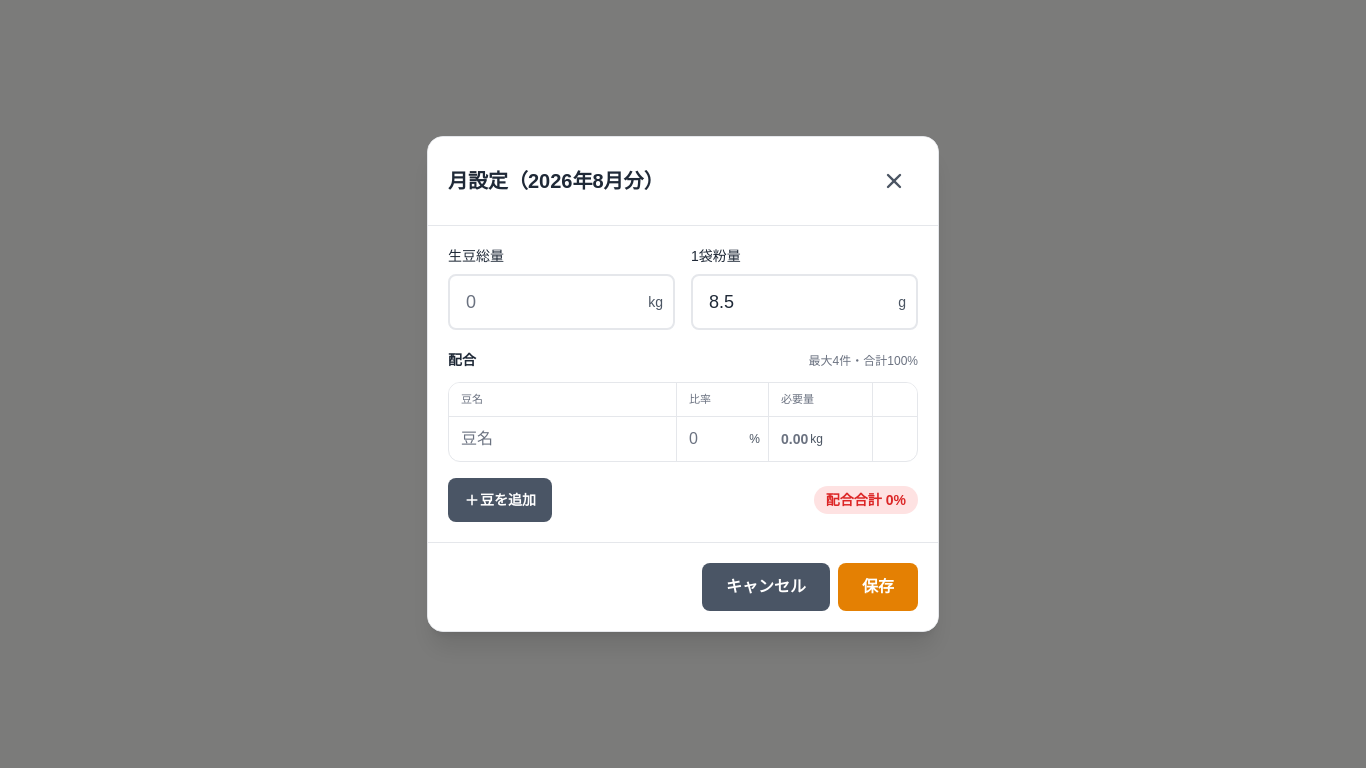
Test case: MonthSettingsModal › 配合合計が100でないとき保存できずエラーを表示する
In the number field labelled "生豆総量": (562, 302) x1=448 y1=274 x2=675 y2=330, type "20"
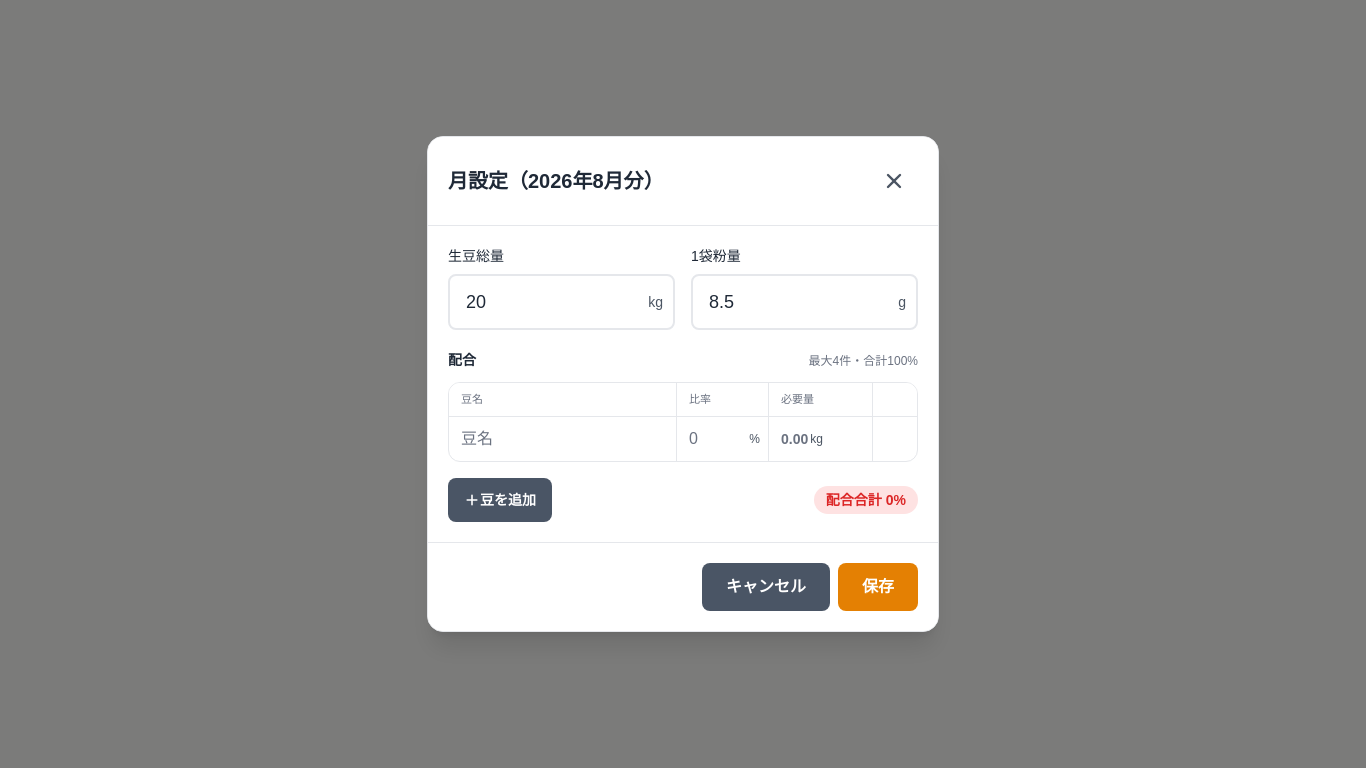
In the field named "豆 1": (563, 439) x1=449 y1=417 x2=677 y2=461, type "ブラジル"
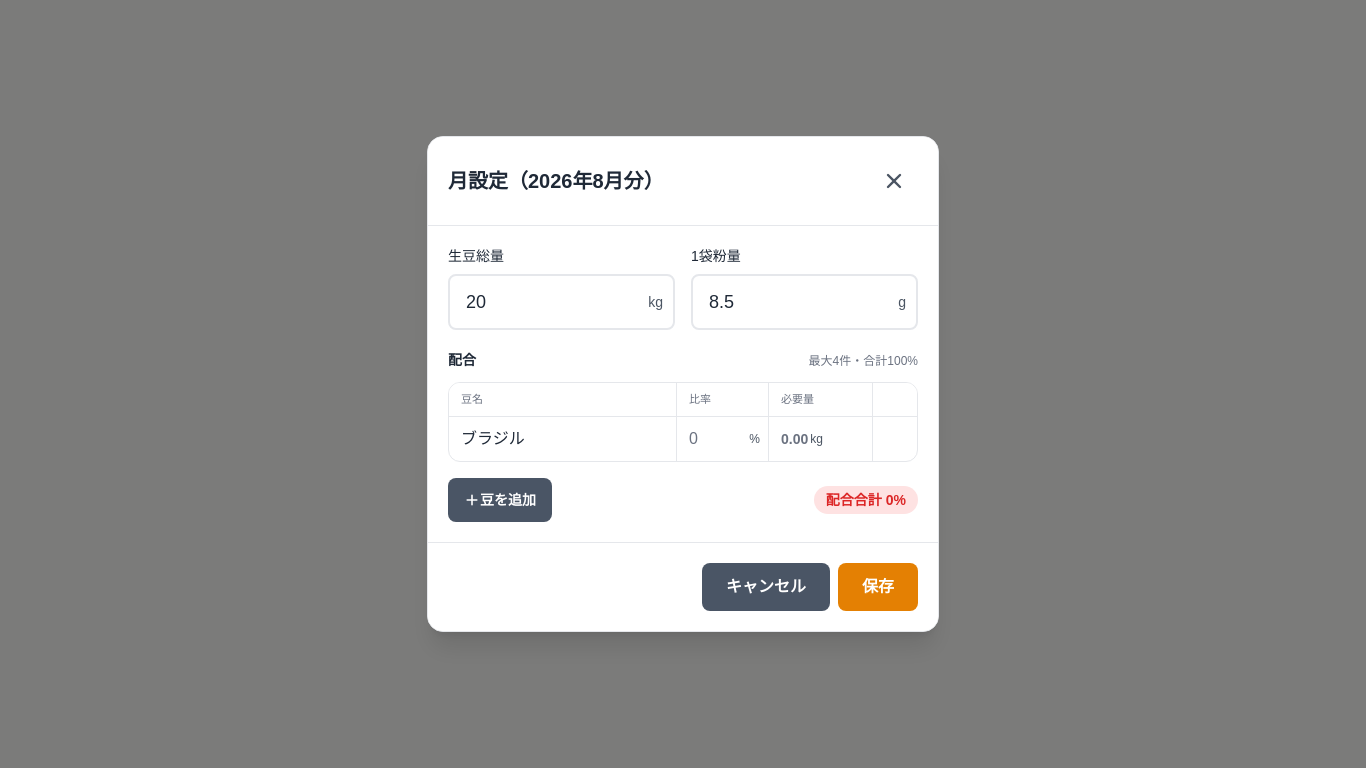
In the number field named "比率": (722, 439) x1=677 y1=417 x2=768 y2=461, type "80"
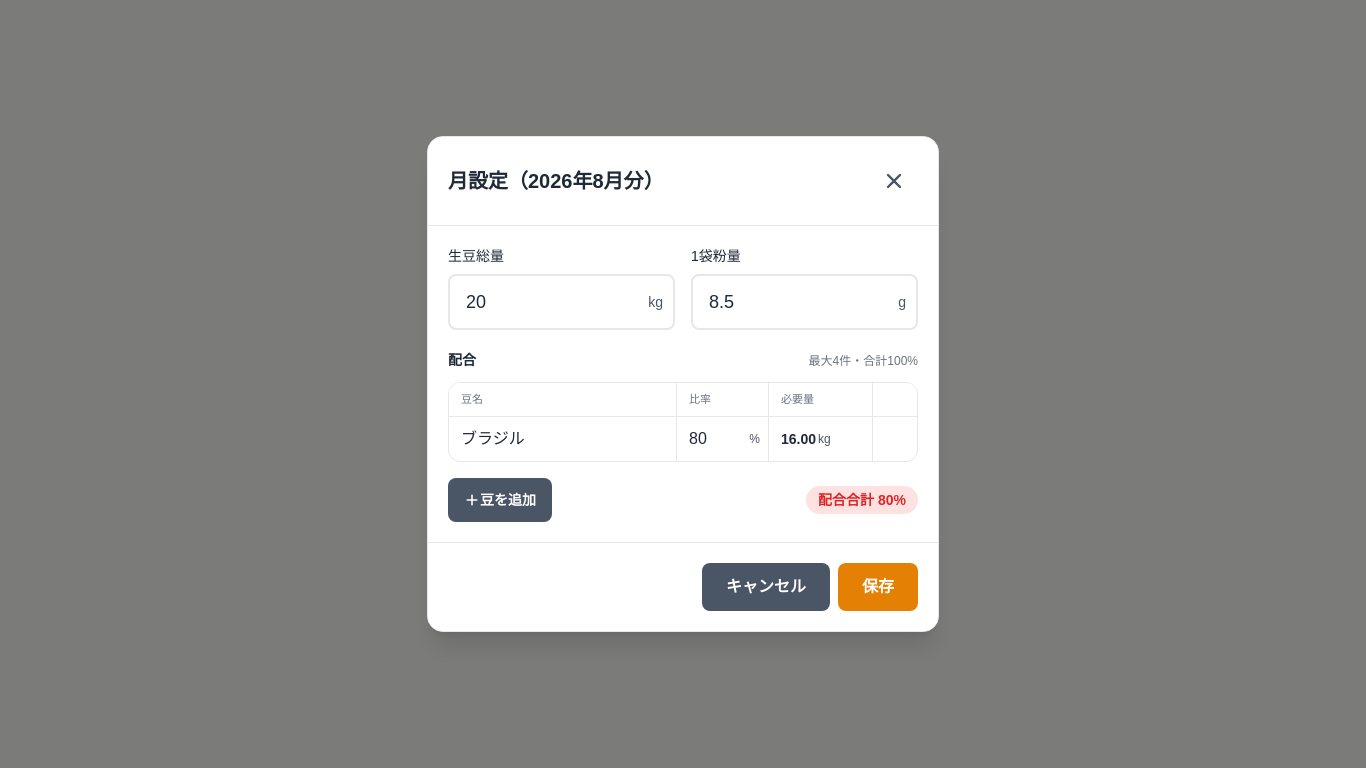
Click the button "保存": (878, 587) x1=838 y1=563 x2=918 y2=611
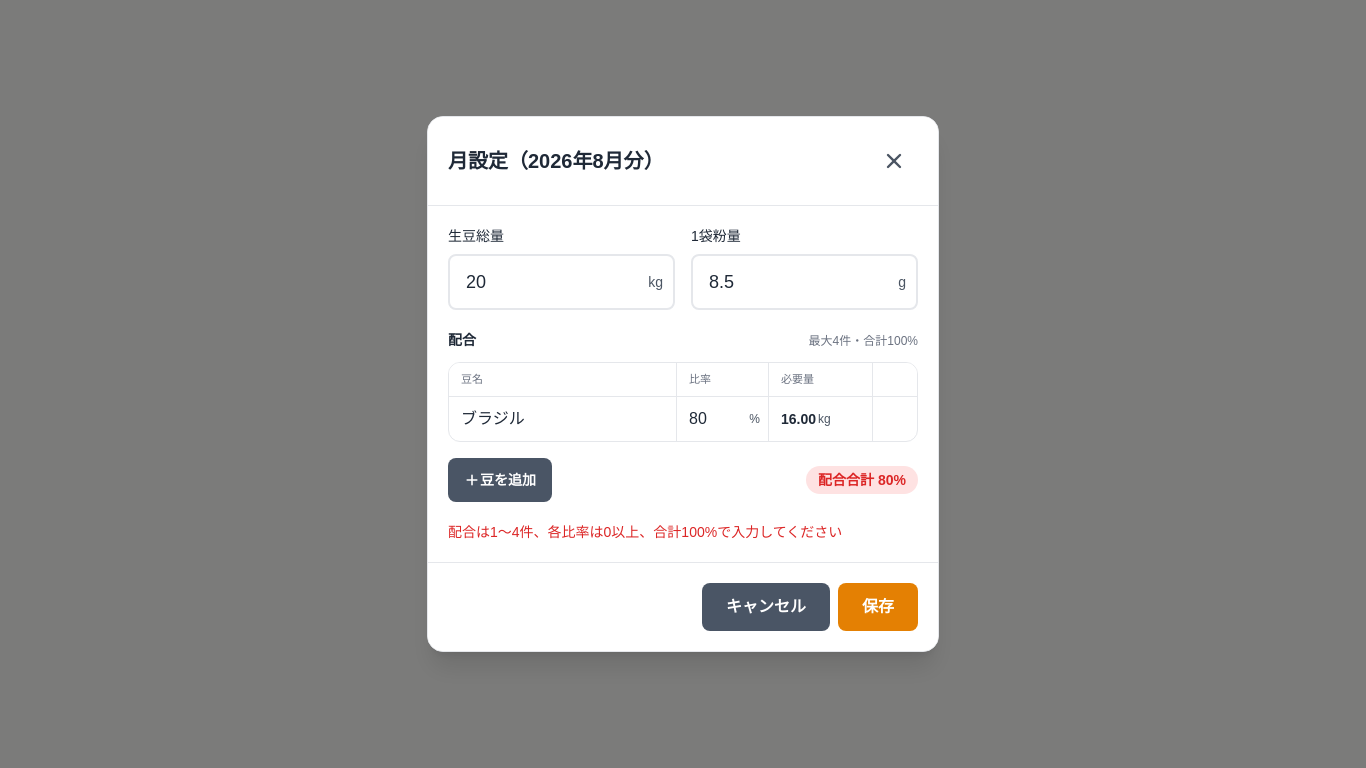
Now the message "配合は1〜4件、各比率は0以上、合計100%で入力してください" is shown, box x1=448 y1=524 x2=842 y2=540
